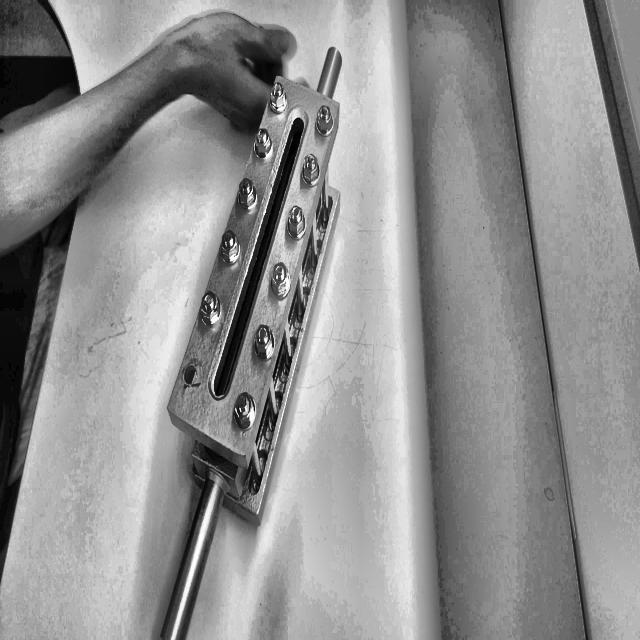ShuiWeiQi_11: (136, 77, 377, 608)
